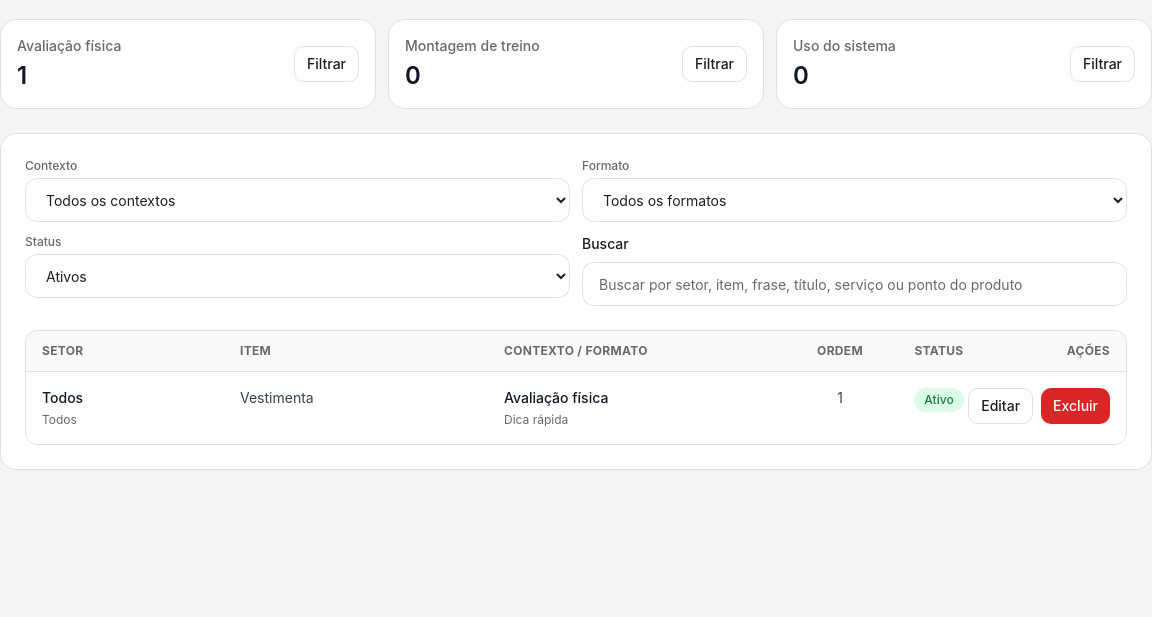
Scenario: SettingsProfessorManual › edita item, persiste as alterações e retorna para a lista
expect the table is shown: met, box [26,331,1126,444]
Click the button "Editar" at {"x": 1001, "y": 406}, box [968,388,1033,424]
(page scrolled)
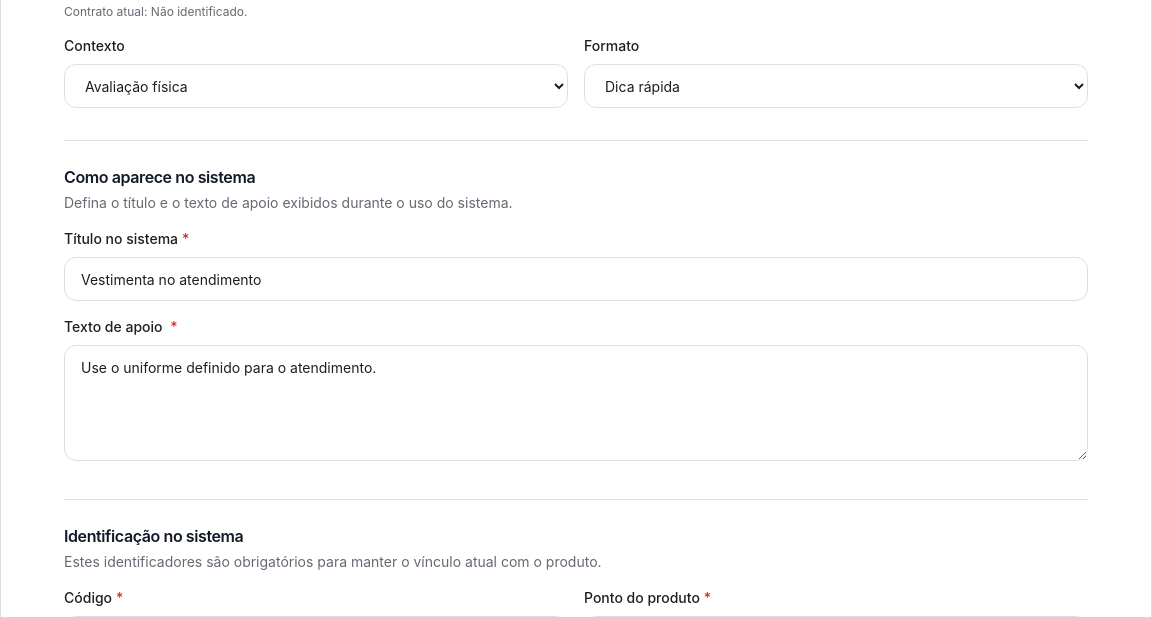
Replace the text in the field labelled "Título no sistema*" with "Vestimenta revisada" at {"x": 576, "y": 279}, box [64,257,1088,301]
(page scrolled)
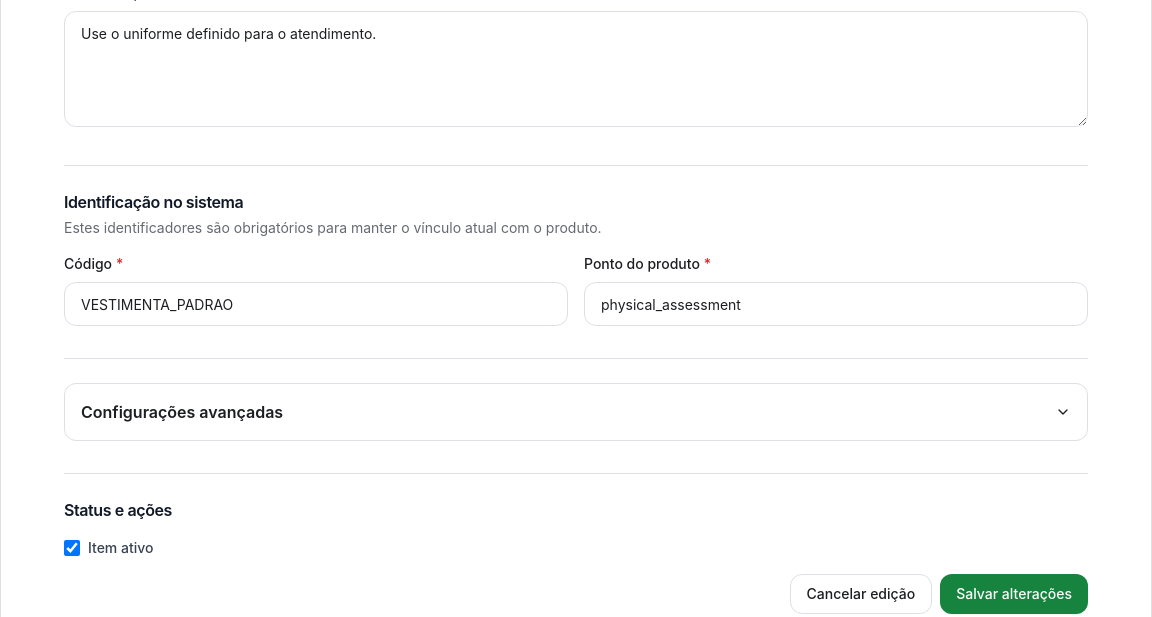
Click the button "Salvar alterações" at {"x": 1014, "y": 594}, box [940,574,1088,614]
(page scrolled)
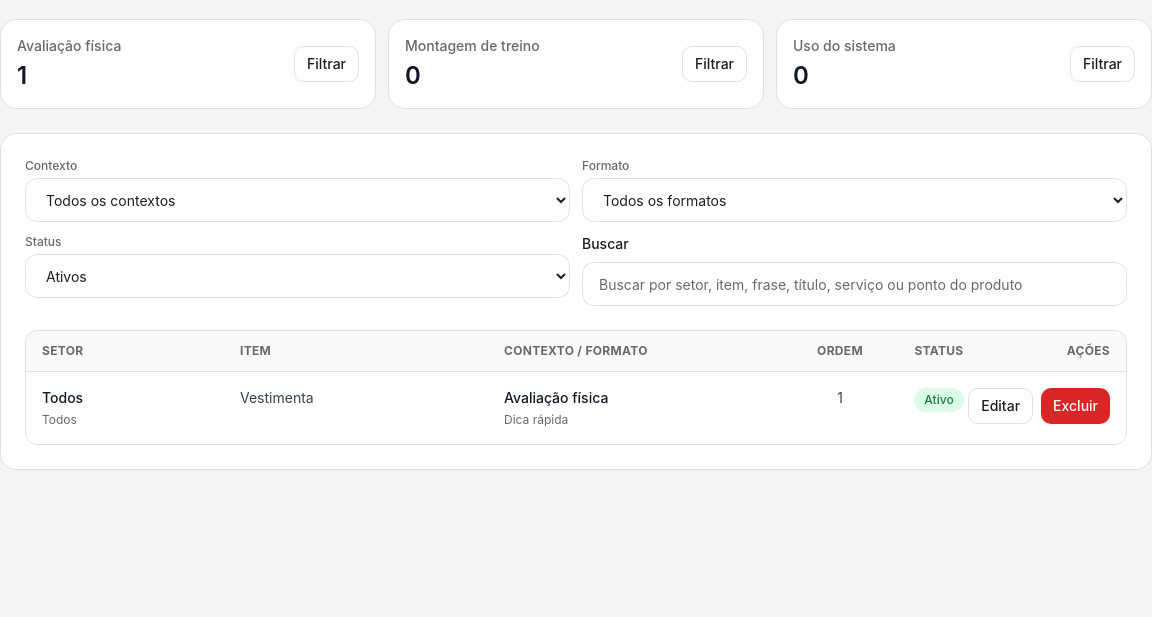
expect the table is shown: met, box [26,331,1126,444]
